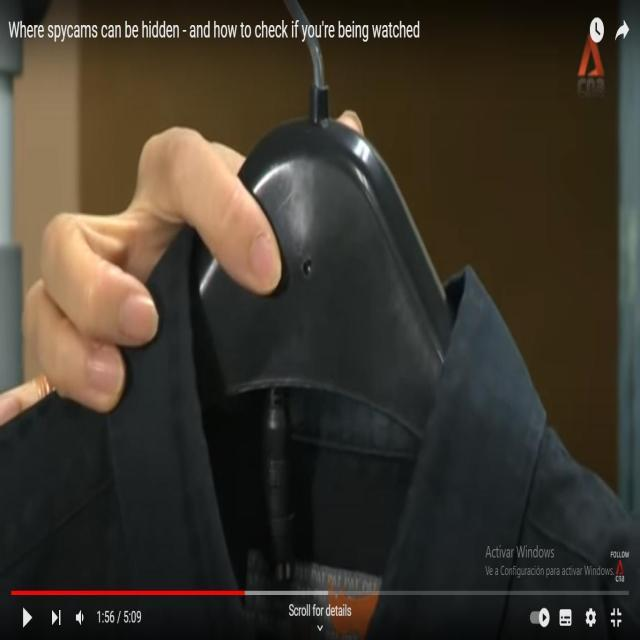hidden camera: (296, 238, 322, 292)
